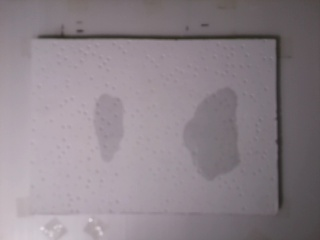Water_detected: (187, 103, 235, 160), (97, 103, 122, 159)
